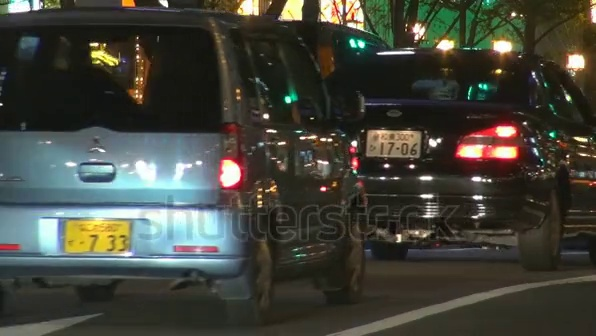licenseplate: (59, 216, 132, 262), (365, 131, 425, 166)
